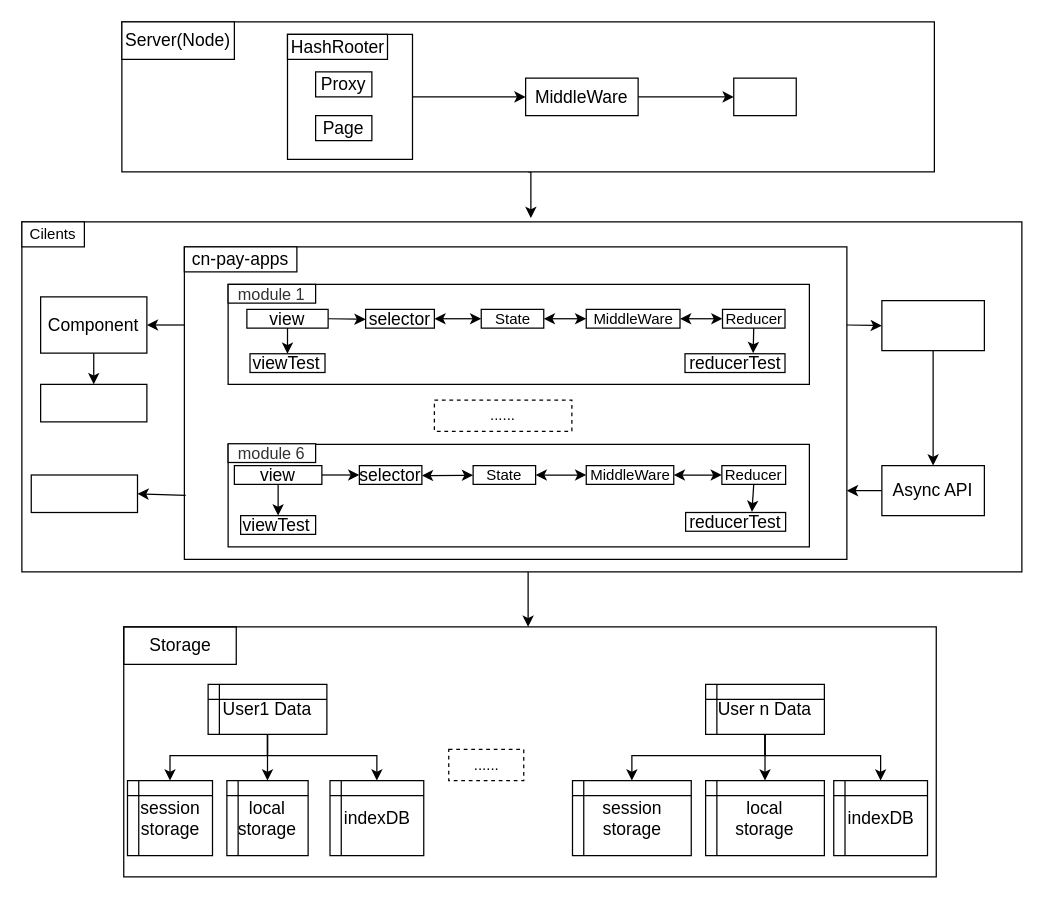
Image size: 1044x899. Some labels were removed from this diagram. The shapes that lost their labels are listed below. From the top down, each one's centre as x and y in pixels, then its label:
point (764, 96): Utils
point (932, 325): service
point (93, 402): UI
point (84, 493): Libs
